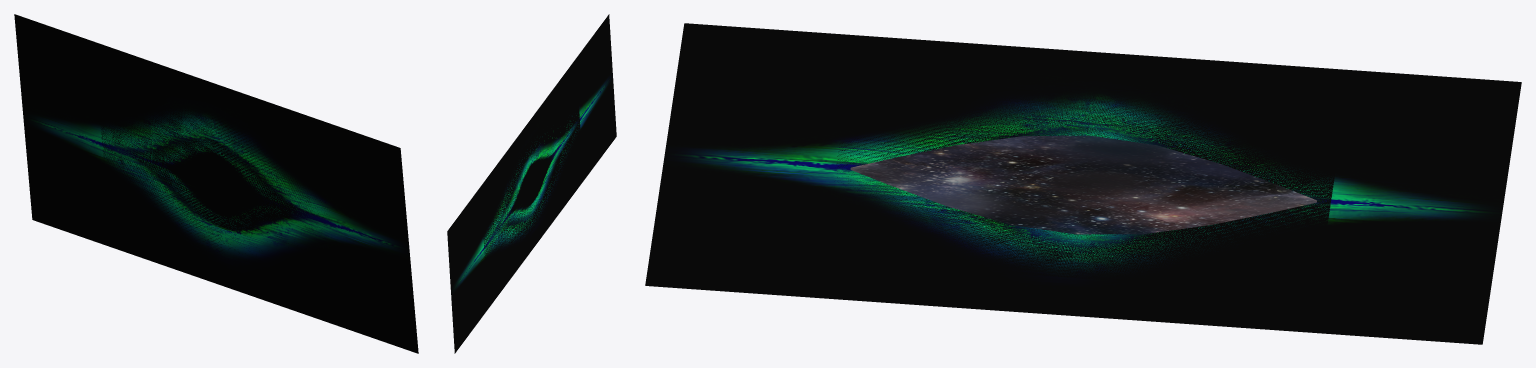
Rendered from Fog.fbx.
The picture shows the model from 3 angles, left to right: view 1: azimuth 30°, elevation 25°; view 2: azimuth 150°, elevation 25°; view 3: azimuth 270°, elevation 25°; orthographic projection. The views are drawn at different scales.
Parts seen in each view (by area): view 1: Eff_Model_Shougun_02, Eff_Model_Shougun_01; view 2: Eff_Model_Shougun_02, Eff_Model_Shougun_01; view 3: Eff_Model_Shougun_02, Eff_Model_Shougun_01, Eff_Model_Shougun_03.
Part boxes in pixels (bbox=[...]): Eff_Model_Shougun_02: bbox=[14, 14, 418, 353]; Eff_Model_Shougun_01: bbox=[96, 71, 326, 262]; Eff_Model_Shougun_02: bbox=[447, 14, 616, 353]; Eff_Model_Shougun_01: bbox=[481, 76, 582, 286]; Eff_Model_Shougun_02: bbox=[645, 23, 1521, 344]; Eff_Model_Shougun_01: bbox=[837, 73, 1344, 294]; Eff_Model_Shougun_03: bbox=[850, 135, 1316, 234].
Size of the model in its own units: 28.73 by 101 by 220.
